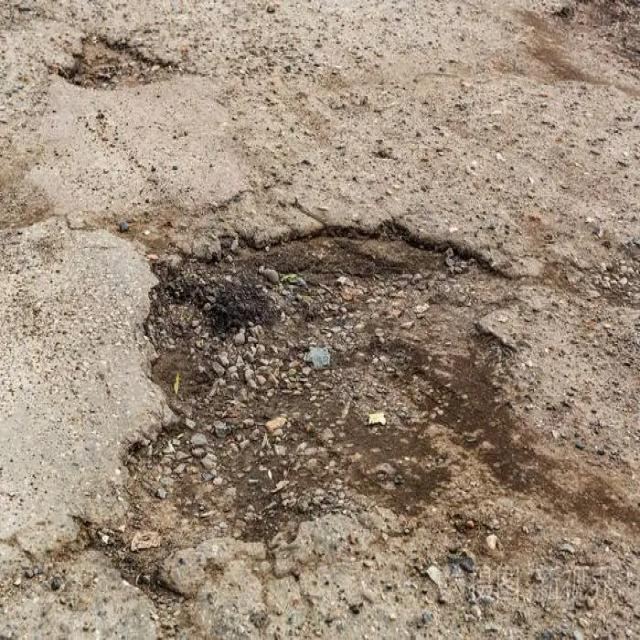Pothole: (130, 225, 560, 534), (57, 27, 169, 88)
